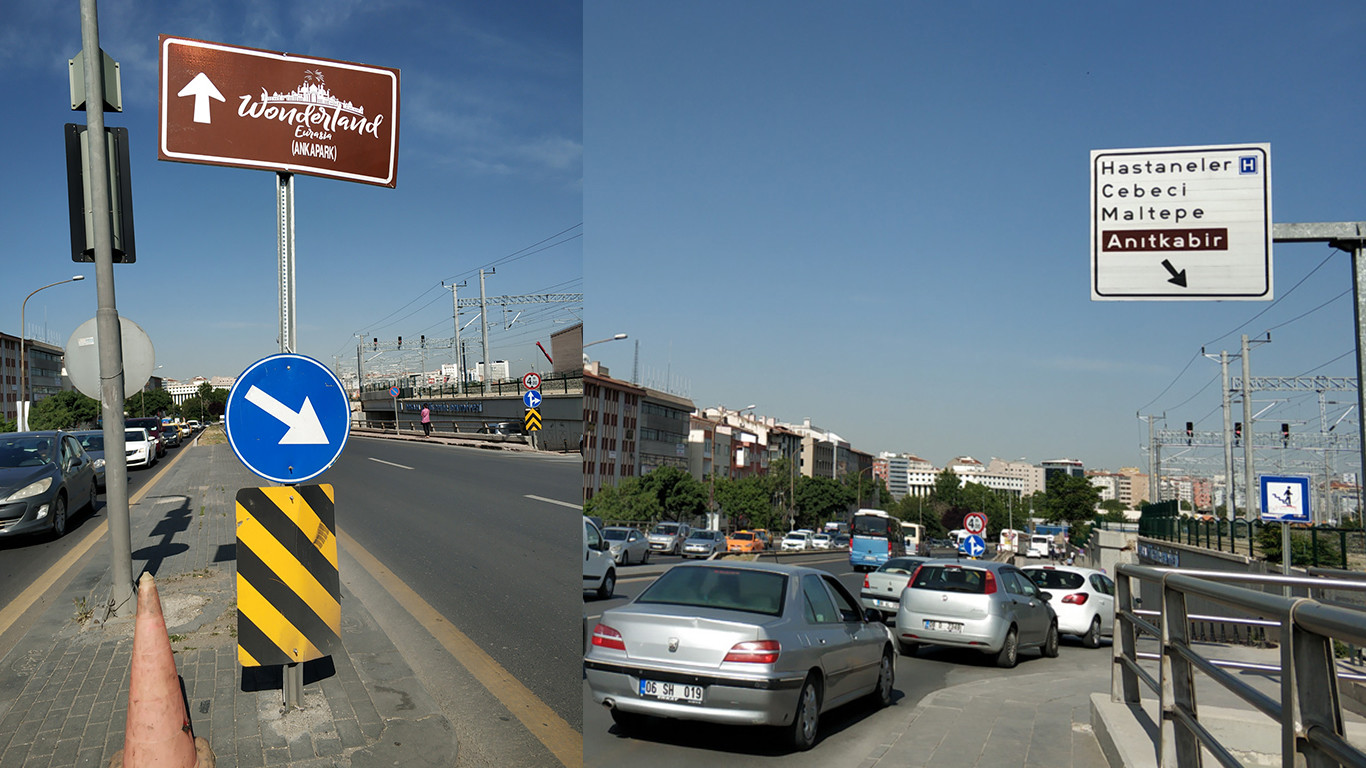Sagdan Git: (227, 355, 359, 481)
